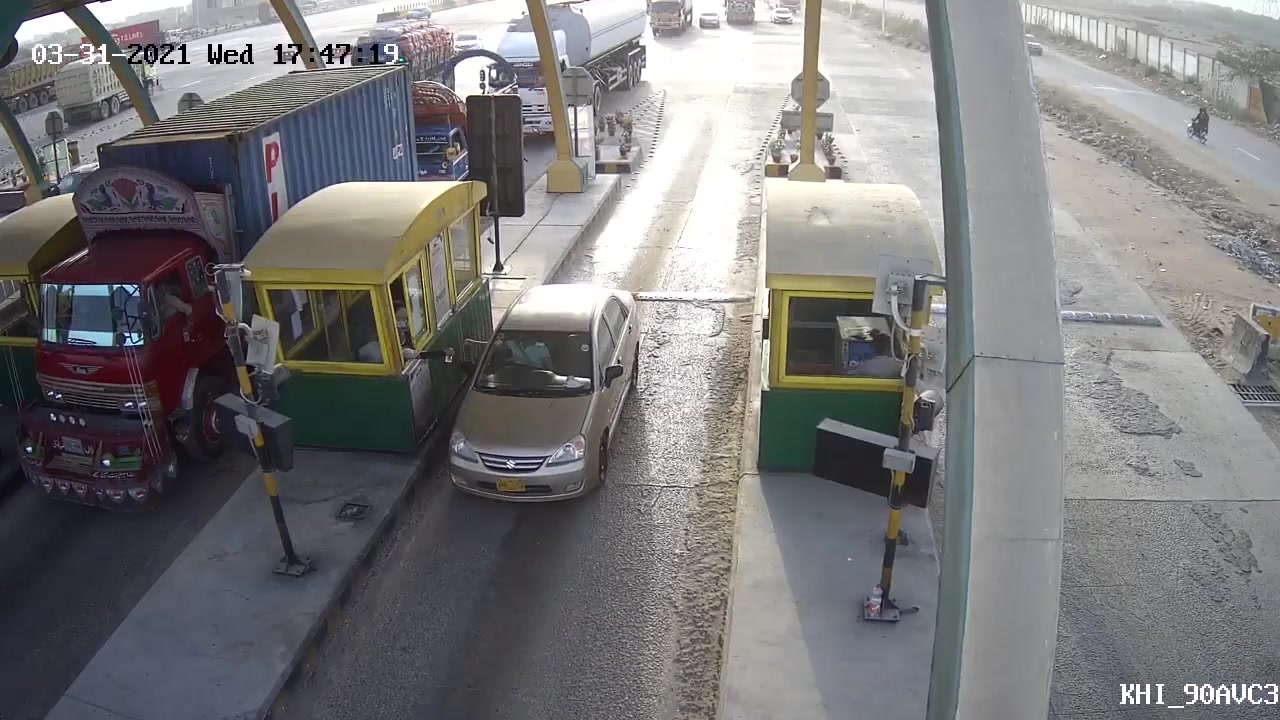F1: (427, 275, 650, 539)
